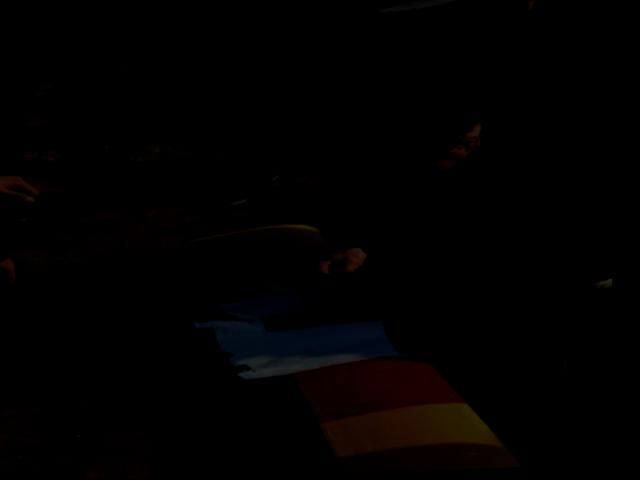iha: (157, 201, 610, 479)
